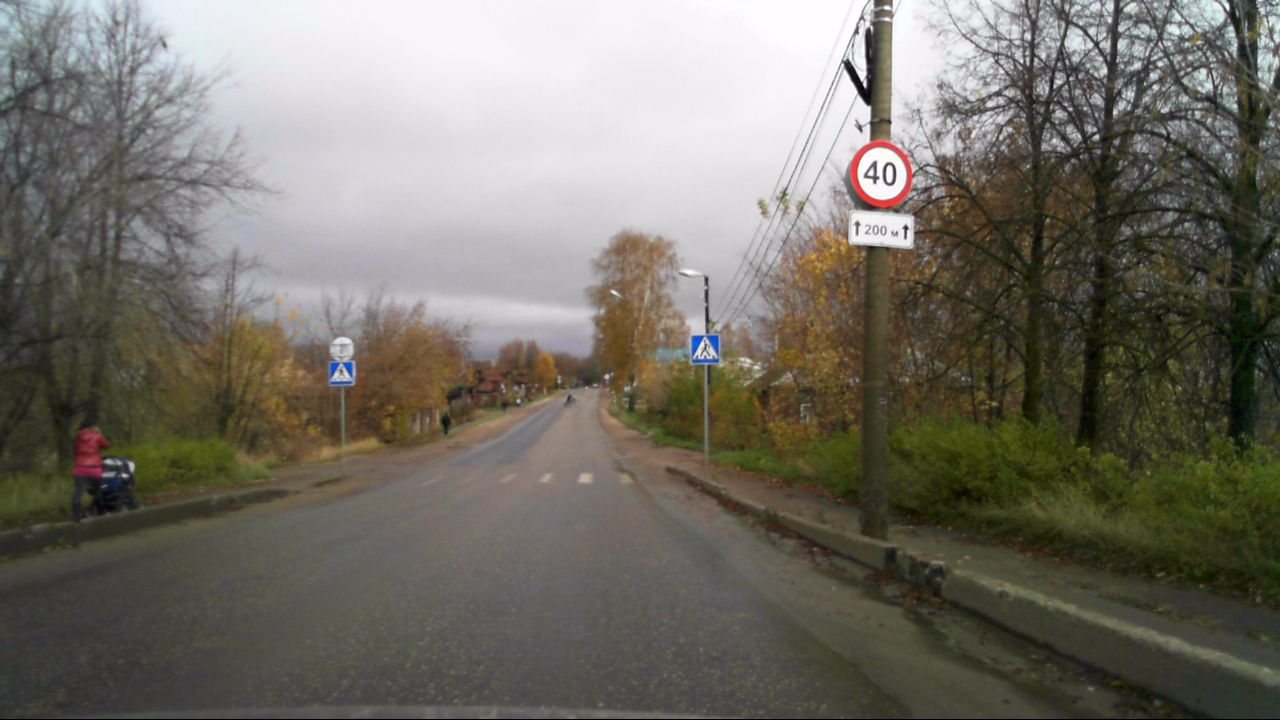speed_warning_40: (848, 140, 913, 207)
